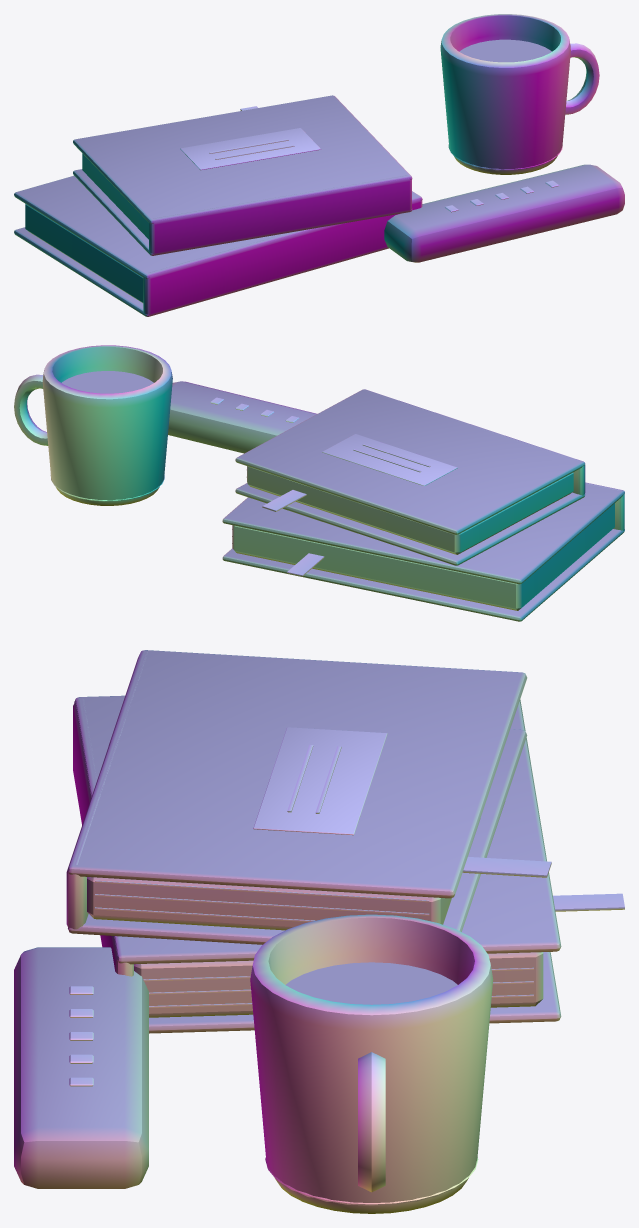
The model's file is env_dress_living.glb.
The picture shows the model from 3 angles, top to bottom: view 1: azimuth 30°, elevation 25°; view 2: azimuth 150°, elevation 25°; view 3: azimuth 270°, elevation 25°; orthographic projection. The views are drawn at different scales.
Parts seen in each view (by area): view 1: env_dress_living_mesh; view 2: env_dress_living_mesh; view 3: env_dress_living_mesh.
Part boxes in pixels (box(x1,y1,x2,y2)): env_dress_living_mesh: box(14, 14, 624, 316); env_dress_living_mesh: box(14, 345, 624, 621); env_dress_living_mesh: box(14, 650, 624, 1213).
Size of the model in its own units: 0.8686 by 0.173 by 0.4526.
